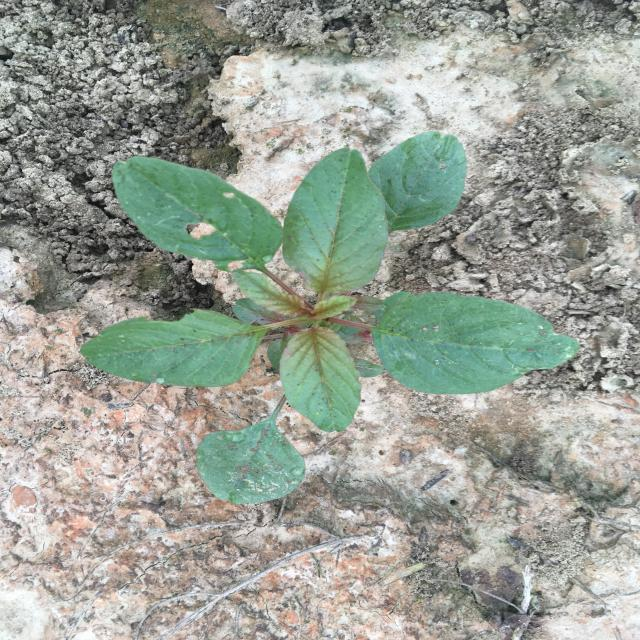PalmerAmaranth: (79, 130, 582, 506)
